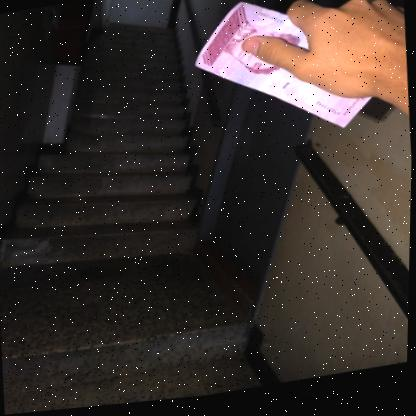vef_front: (189, 0, 376, 157)
